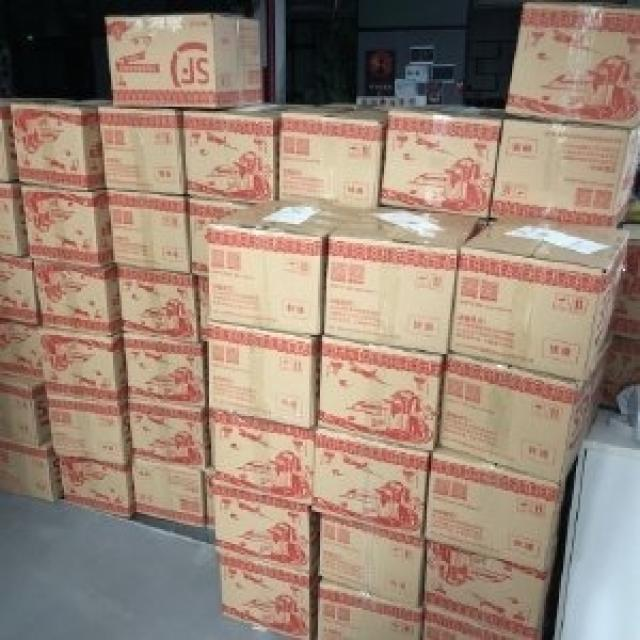box: (448, 211, 631, 382), (439, 337, 610, 482), (324, 205, 478, 356), (207, 196, 361, 337), (425, 446, 565, 574), (486, 119, 640, 226), (105, 11, 265, 109), (318, 335, 446, 450), (380, 105, 503, 218), (183, 105, 316, 205), (309, 429, 431, 538), (207, 322, 322, 431), (425, 542, 550, 640), (279, 107, 388, 211), (211, 476, 320, 572), (318, 514, 427, 608), (209, 412, 318, 501), (218, 550, 318, 640), (11, 100, 109, 190), (98, 105, 186, 194), (19, 186, 113, 269), (107, 192, 190, 275), (32, 260, 122, 335), (115, 265, 198, 346), (318, 578, 425, 640), (38, 329, 126, 399), (122, 335, 207, 407), (45, 395, 130, 467), (126, 397, 209, 469), (188, 196, 252, 279), (130, 459, 205, 529), (58, 457, 134, 518), (4, 439, 62, 503), (4, 375, 53, 448), (610, 222, 640, 341), (425, 610, 525, 640), (599, 339, 640, 410), (4, 256, 41, 324), (2, 320, 43, 380), (4, 183, 30, 258), (4, 98, 19, 181), (198, 277, 207, 341)
